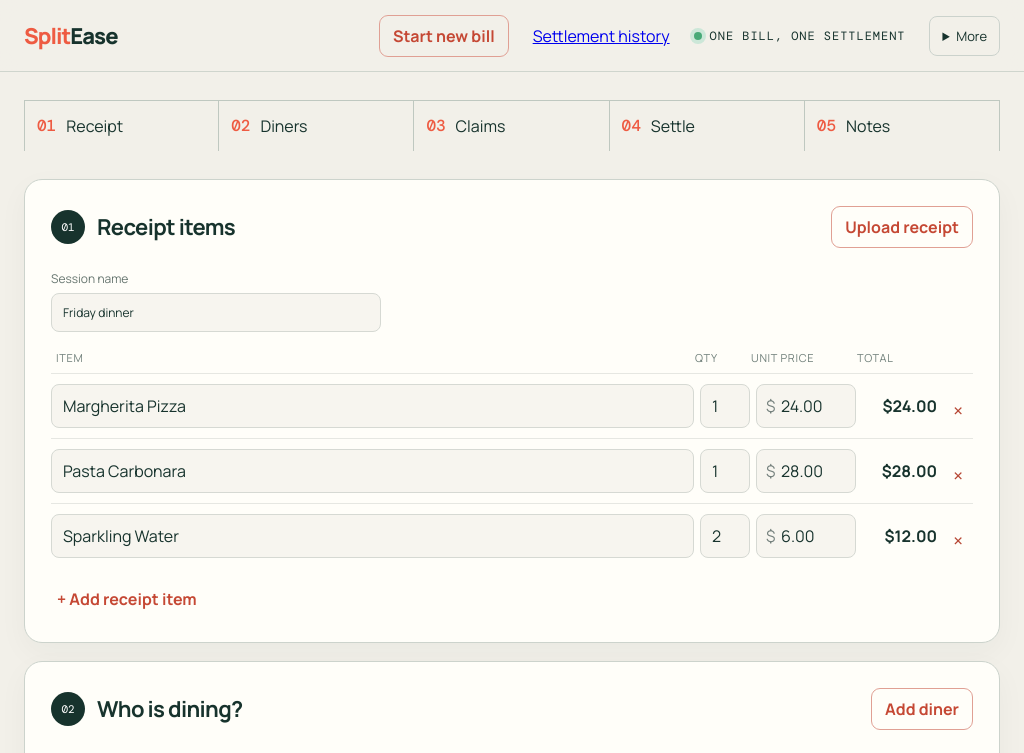
Test case: keeps saving disabled while an edited calculation is pending or fails
The width and height of the screenshot is (1024, 753).
Replace the text in the field labelled "Session name" with "Changed" at (216, 312), box x1=51 y1=293 x2=381 y2=332
(page scrolled)
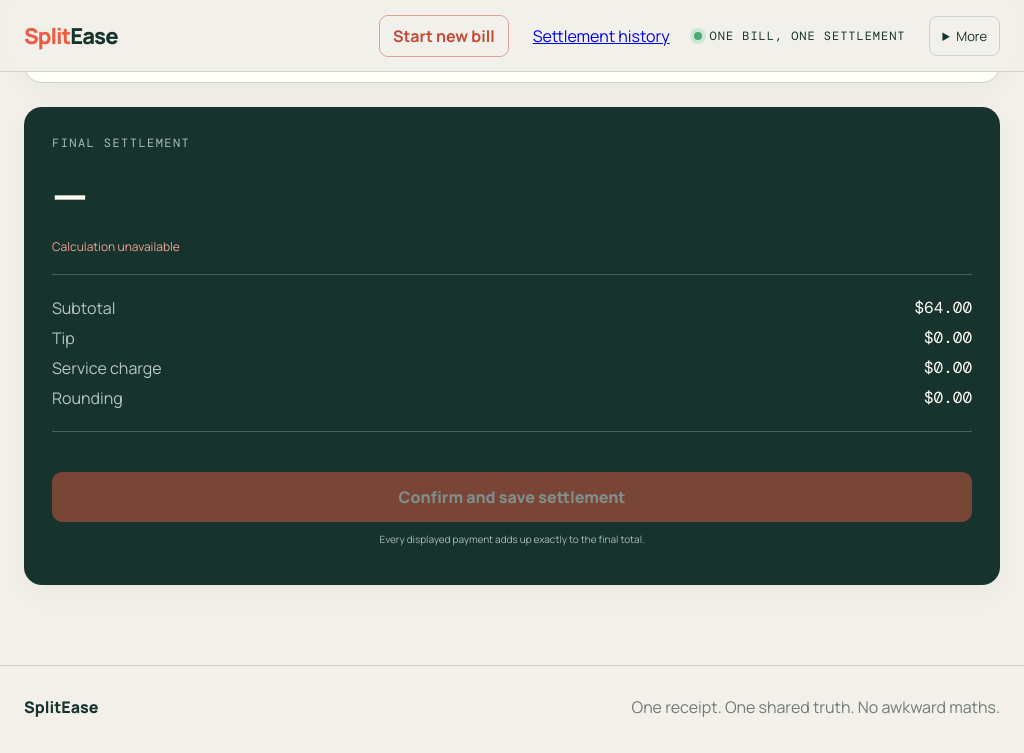
Expected: the text "Calculation unavailable" is shown, x1=52 y1=238 x2=180 y2=255
Expected: the button "Confirm and save settlement" is disabled, x1=52 y1=472 x2=972 y2=522
